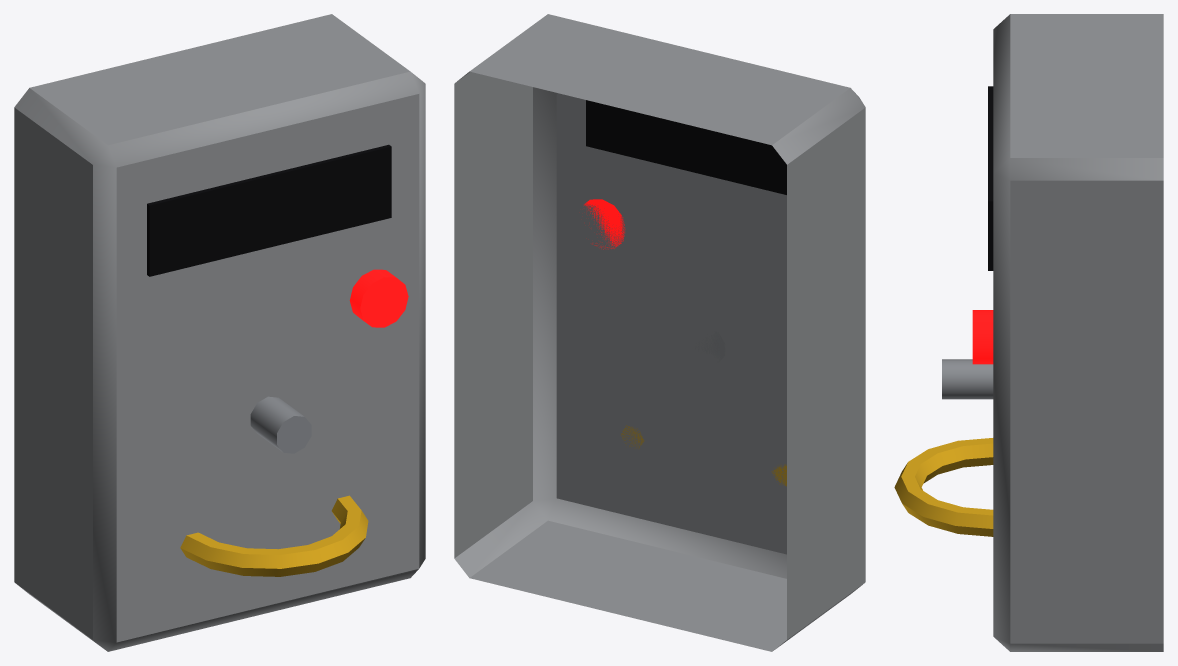
Rendered from SM_Dispensador_Agua.fbx.
The picture shows the model from 3 angles, left to right: view 1: azimuth 30°, elevation 25°; view 2: azimuth 150°, elevation 25°; view 3: azimuth 270°, elevation 25°; orthographic projection. The views are drawn at different scales.
Visible parts, largest first — view 1: SM_Dispensador_Agua; view 2: SM_Dispensador_Agua; view 3: SM_Dispensador_Agua.
Boxes of the visible parts, x1=… form: SM_Dispensador_Agua: x1=14, y1=14, x2=425, y2=651; SM_Dispensador_Agua: x1=454, y1=14, x2=865, y2=651; SM_Dispensador_Agua: x1=894, y1=14, x2=1163, y2=651.
Bounding box in the file's own units: 0.22 × 0.32 × 0.158.
